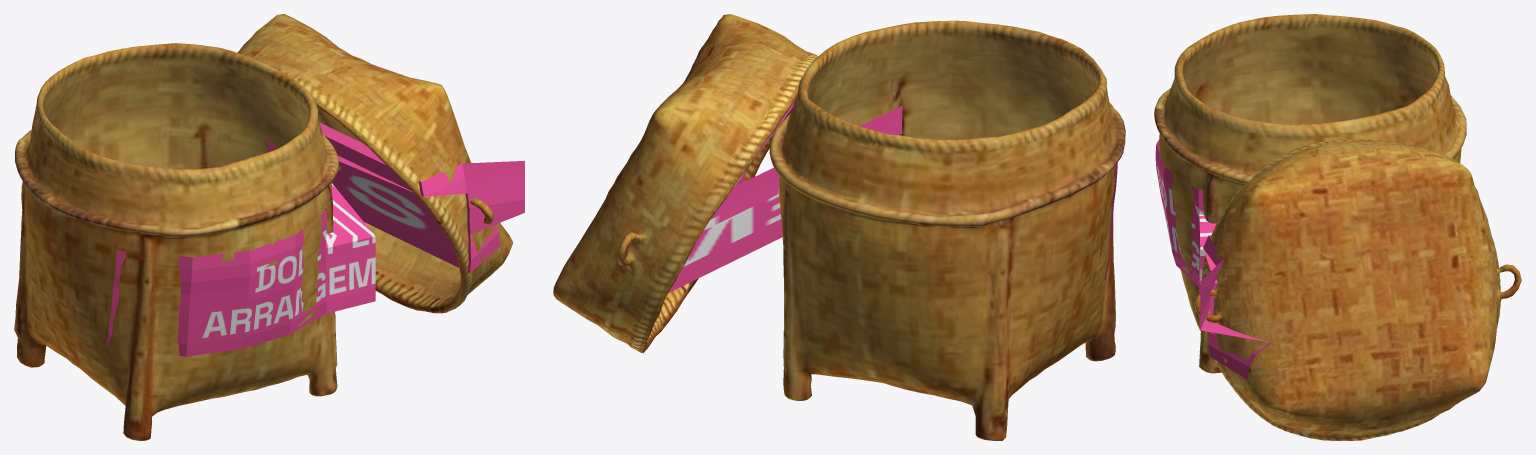
File: nyb_dolly_basket.glb
The picture shows the model from 3 angles, left to right: view 1: azimuth 30°, elevation 25°; view 2: azimuth 150°, elevation 25°; view 3: azimuth 270°, elevation 25°; orthographic projection. The views are drawn at different scales.
Visible parts, largest first — view 1: wicker_basket_02_base, stk_lbl_a9de8edd3f.png; view 2: wicker_basket_02_base, stk_lbl_a9de8edd3f.png; view 3: wicker_basket_02_base, stk_lbl_a9de8edd3f.png.
Boxes of the visible parts, left/top/right/bottom form: wicker_basket_02_base: left=14, top=14, right=512, bottom=440; stk_lbl_a9de8edd3f.png: left=105, top=123, right=524, bottom=356; wicker_basket_02_base: left=553, top=14, right=1125, bottom=440; stk_lbl_a9de8edd3f.png: left=668, top=47, right=1117, bottom=292; wicker_basket_02_base: left=1154, top=14, right=1521, bottom=440; stk_lbl_a9de8edd3f.png: left=1155, top=139, right=1271, bottom=379.
Size of the model in its own units: 0.3469 by 0.2005 by 0.2544.
Materials: 2 (2 with a texture image).
